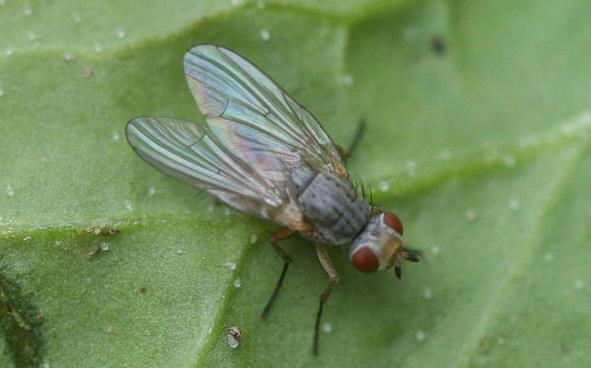Trifoli: (117, 30, 478, 364)
